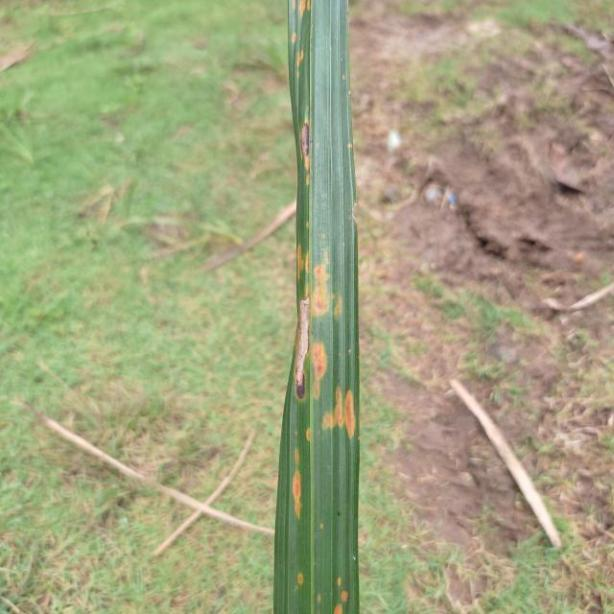Kalium: (274, 0, 366, 614)
